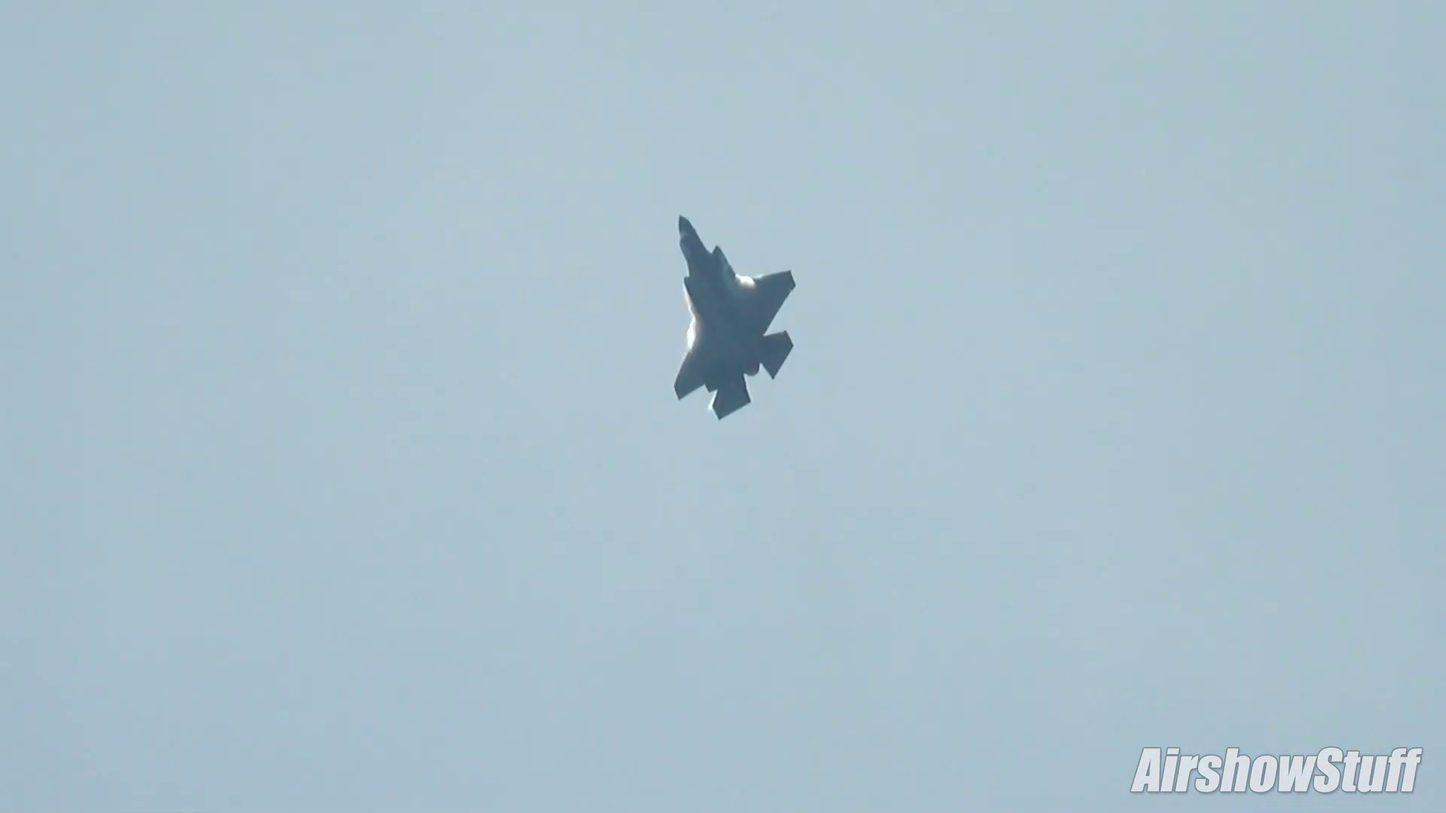F35: (668, 209, 799, 424)
